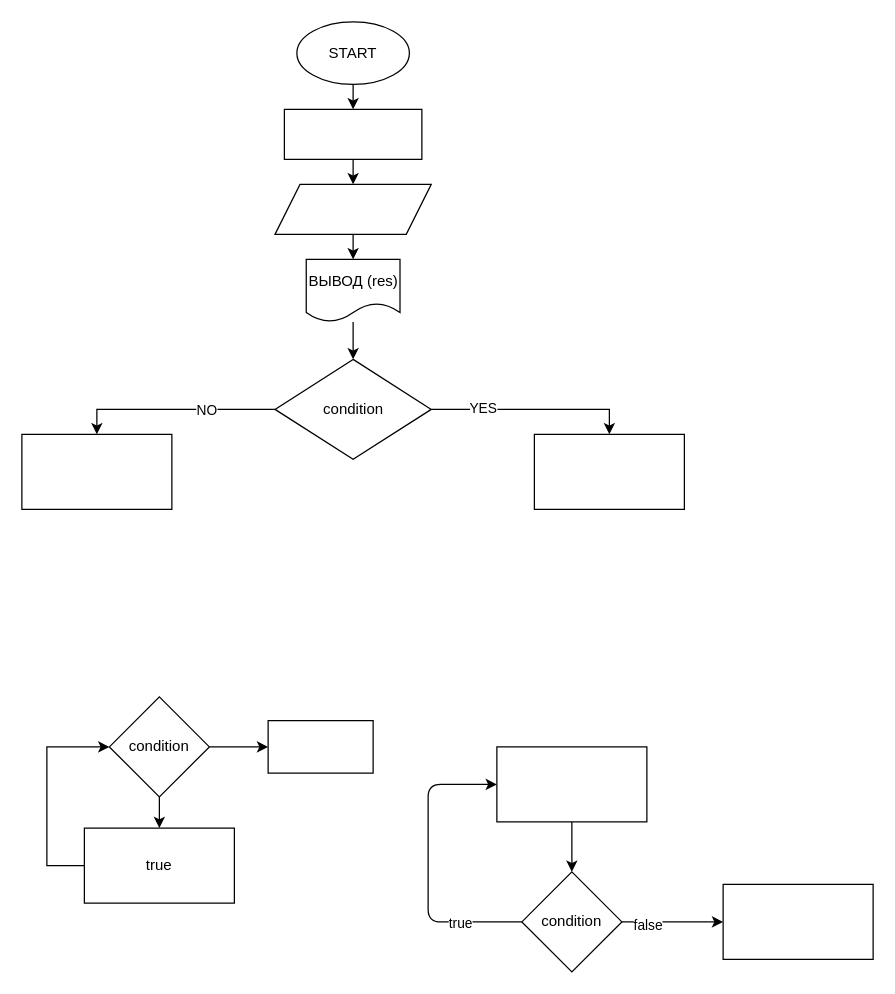
This 895x994 diagram has some shape labels left out. Here are the shapes that lost their labels. From the top down, the centre of each, then its label:
At point 352,133: "count = 0 res =1 *sqrt(2)".
At point 352,208: "ВВОД count".
